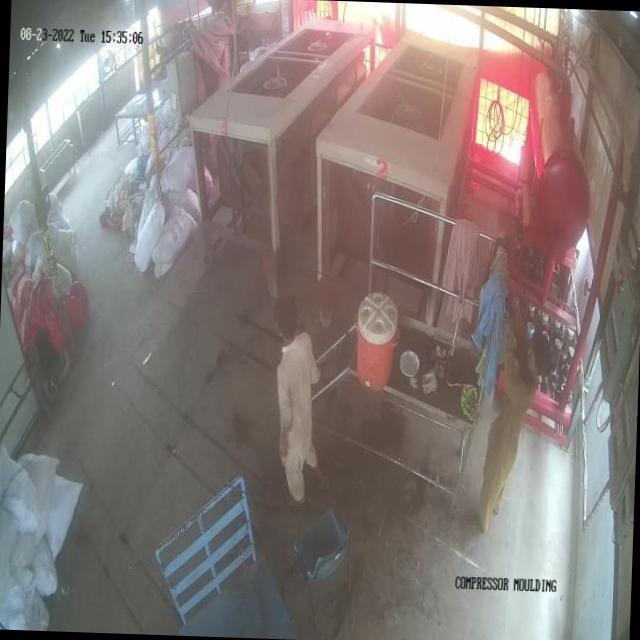person: (492, 304, 550, 573), (264, 294, 328, 506)
